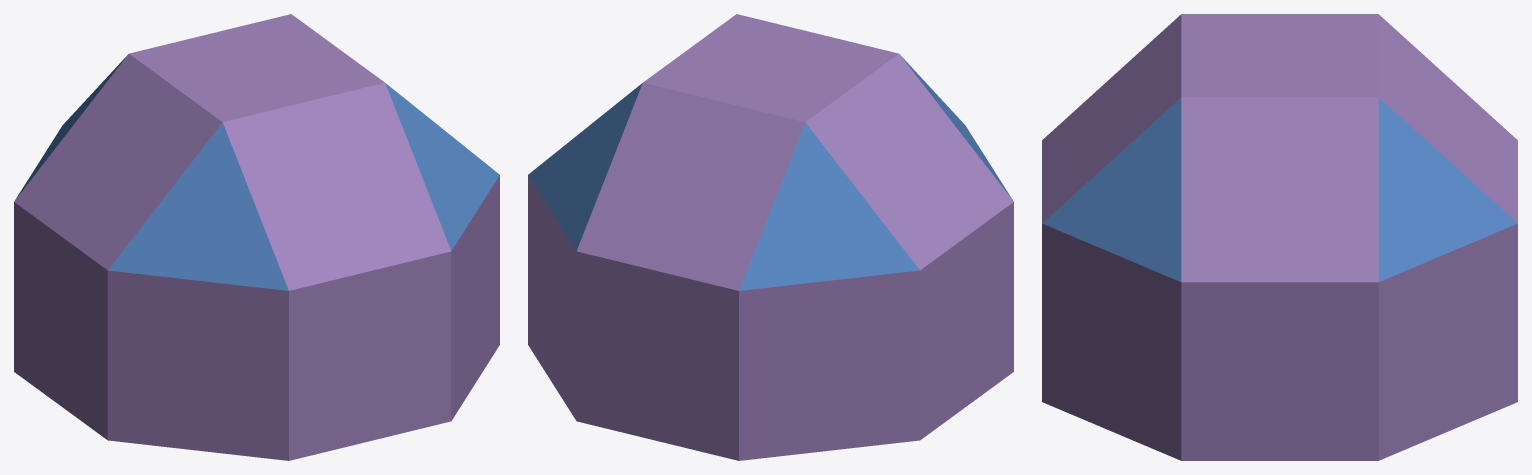
The model's file is J19.CupulaCuadradaElongada.gltf.
The picture shows the model from 3 angles, left to right: view 1: azimuth 30°, elevation 25°; view 2: azimuth 150°, elevation 25°; view 3: azimuth 270°, elevation 25°; orthographic projection. The views are drawn at different scales.
Parts seen in each view (by area): view 1: J19.CupulaCuadradaElongada; view 2: J19.CupulaCuadradaElongada; view 3: J19.CupulaCuadradaElongada.
Part boxes in pixels (left/top/right/bottom): J19.CupulaCuadradaElongada: left=14, top=14, right=499, bottom=460; J19.CupulaCuadradaElongada: left=528, top=14, right=1013, bottom=460; J19.CupulaCuadradaElongada: left=1042, top=14, right=1517, bottom=460.
Bounding box in the file's own units: 17.26 × 12.2 × 17.26.
